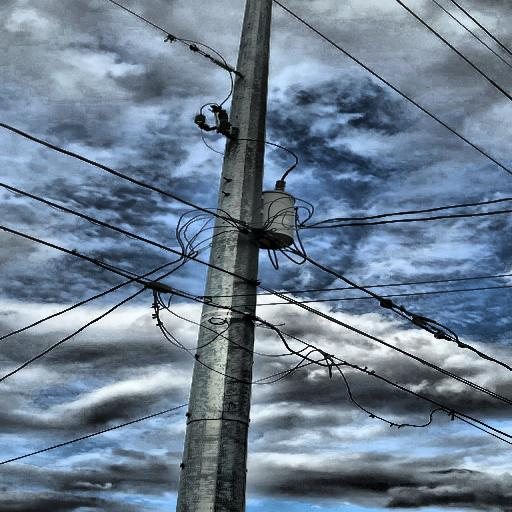pole: (141, 0, 288, 512)
transformer: (244, 189, 302, 253)
